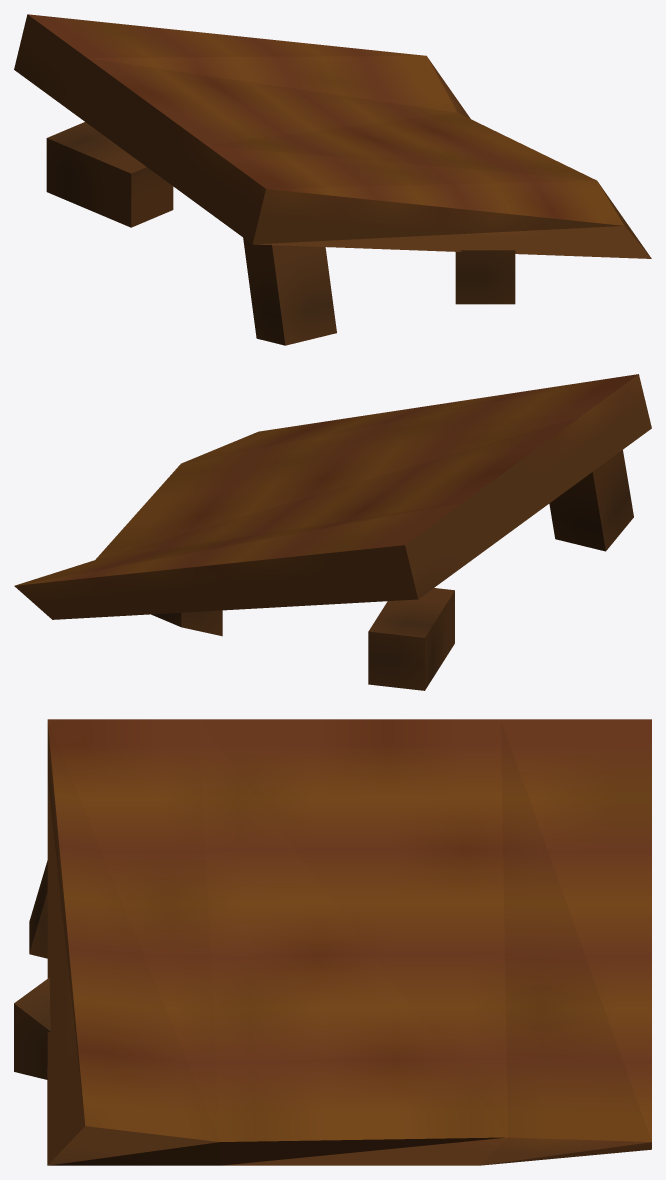
Rendered from table_broken_small.obj.
3 renders of one model, top to bottom at view 1: azimuth 30°, elevation 25°; view 2: azimuth 150°, elevation 25°; view 3: azimuth 270°, elevation 25°, orthographic. The views are drawn at different scales.
Visible parts, largest first — view 1: Default; view 2: Default; view 3: Default.
Part boxes in pixels (box(x1,y1,x2,y2)): Default: box(14, 14, 651, 345); Default: box(14, 374, 651, 690); Default: box(14, 719, 651, 1165).
Bounding box in the file's own units: 0.9984 × 0.4399 × 1.06.
